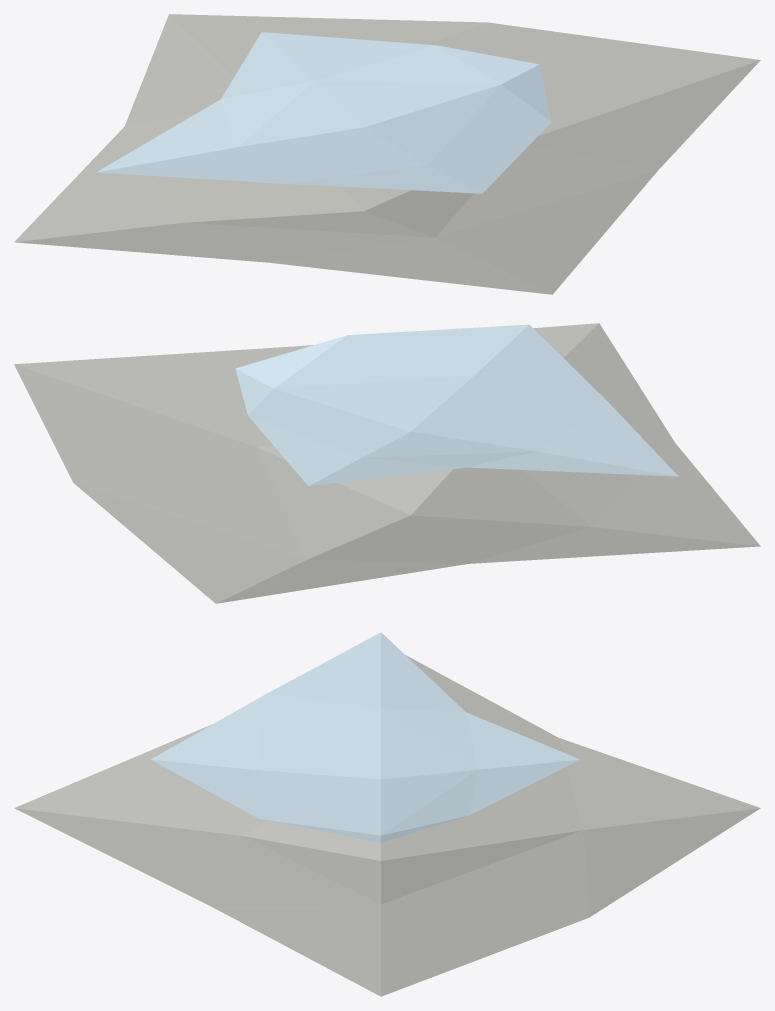
The model's file is puddle_stone_v31.glb.
The picture shows the model from 3 angles, top to bottom: view 1: azimuth 30°, elevation 25°; view 2: azimuth 150°, elevation 25°; view 3: azimuth 270°, elevation 25°; orthographic projection. The views are drawn at different scales.
Parts seen in each view (by area): view 1: lod0; view 2: lod0; view 3: lod0.
Part boxes in pixels (x1,y1,x2,y2): lod0: [14, 14, 760, 294]; lod0: [14, 323, 760, 603]; lod0: [14, 632, 760, 996].
Size of what is drawn, in the model's own units: 1.1 by 0.1741 by 0.9768.
